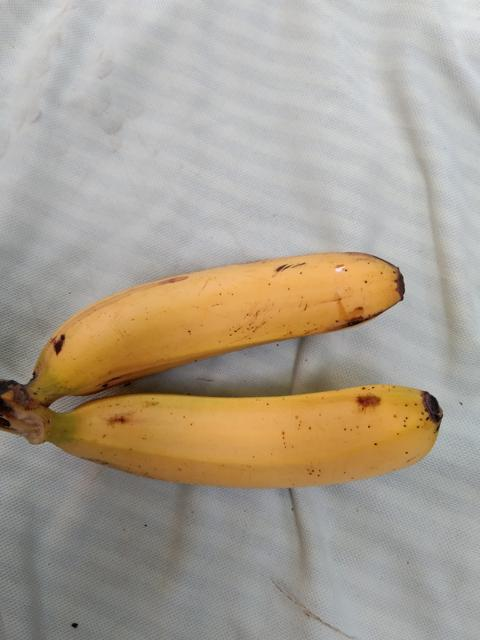ripe: (52, 244, 398, 392), (69, 374, 451, 495)
